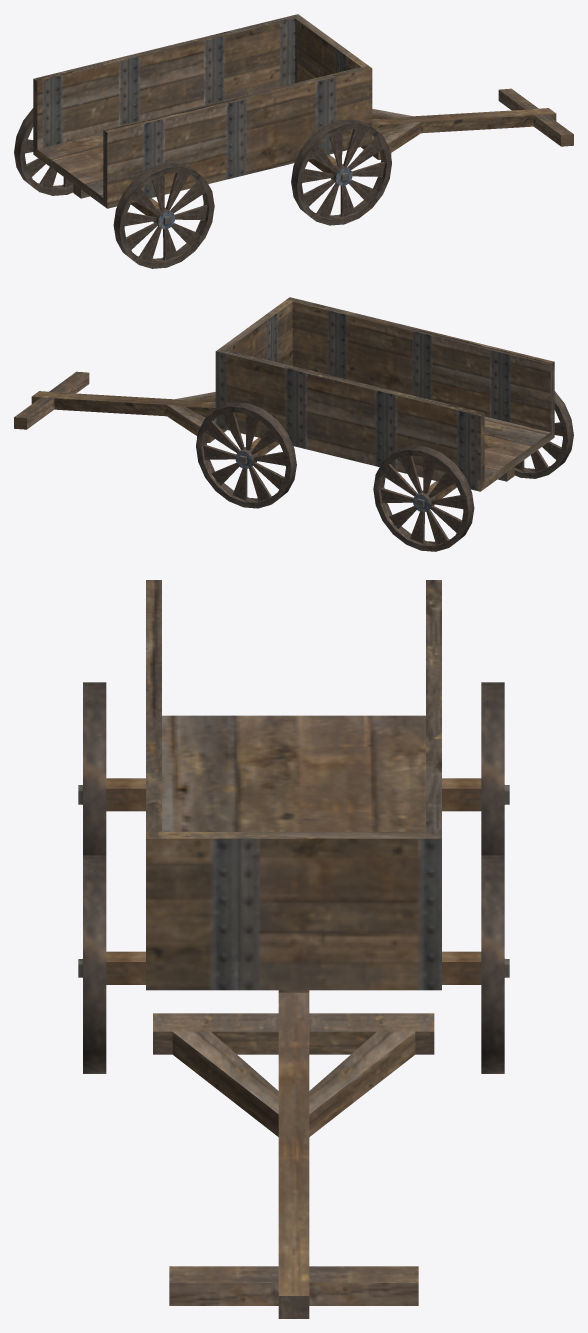
File: Cart.fbx
3 views of the same model, one above another, from view 1: azimuth 30°, elevation 25°; view 2: azimuth 150°, elevation 25°; view 3: azimuth 270°, elevation 25° (orthographic). The views are drawn at different scales.
Parts seen in each view (by area): view 1: Body, Wheel1, Wheel2, Wheel4; view 2: Body, Wheel3, Wheel4, Wheel2; view 3: Body, Wheel1, Wheel3, Wheel4, Wheel2.
Boxes of the visible parts, x1,y1,x2,y2 form: Body: (33, 14, 573, 224); Wheel1: (291, 119, 391, 225); Wheel2: (113, 162, 214, 268); Wheel4: (14, 108, 73, 195); Body: (14, 297, 554, 507); Wheel3: (196, 402, 296, 508); Wheel4: (373, 445, 474, 551); Wheel2: (514, 391, 573, 478); Body: (78, 580, 509, 1318); Wheel1: (83, 855, 106, 1073); Wheel3: (481, 855, 504, 1073); Wheel4: (481, 682, 504, 855); Wheel2: (83, 682, 106, 855).
Bounding box in the file's own units: 3.79 × 1 × 1.46.
